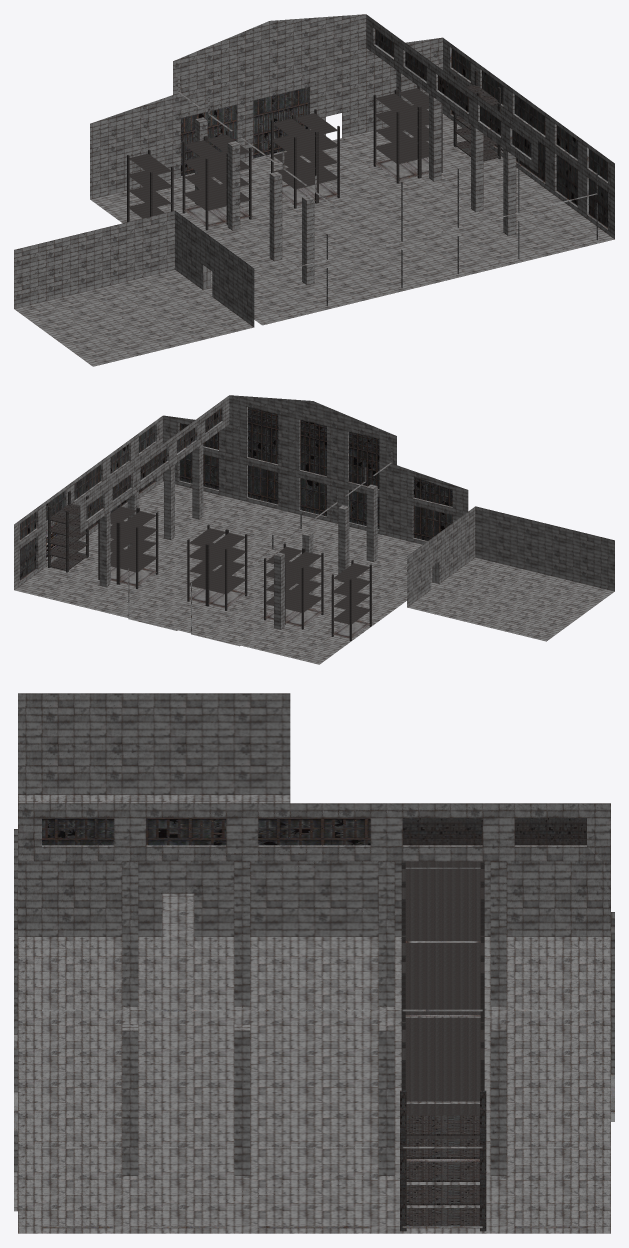
The model's file is PlzTest (14).glb.
The picture shows the model from 3 angles, top to bottom: view 1: azimuth 30°, elevation 25°; view 2: azimuth 150°, elevation 25°; view 3: azimuth 270°, elevation 25°; orthographic projection. The views are drawn at different scales.
Parts seen in each view (by area): view 1: Box-col.019, Cube.006-col.011, Cube.006-col.013, Cube.006-col.016, Cube.006-col.014, Cube.006-col.015, Cube.006-col.010, Cube.006-col.012, Box-col.026, Box-col.024, Box-col.023, Box-col.027 (+2 smaller); view 2: Box-col.019, Cube.006-col.011, Cube.006-col.016, Cube.006-col.014, Cube.006-col.013, Cube.006-col.015, Cube.006-col.010, Cube.006-col.012, Box-col.027, Box-col.023, Box-col.021, Box-col.025 (+3 smaller); view 3: Box-col.019, Cube.006-col.015, Cube.006-col.010, Cube.006-col.012, Cube.006-col.013, Cube.006-col.016, Cube.006-col.011, Box-col.020, Box-col.021, Box-col.022, Box-col.023, Box-col.024 (+11 smaller).
Part boxes in pixels (x1,y1,x2,y2): Box-col.019: (14,14,614,366); Cube.006-col.011: (373,89,420,183); Cube.006-col.013: (182,136,227,230); Cube.006-col.016: (271,114,317,208); Cube.006-col.014: (127,149,173,222); Cube.006-col.015: (293,109,339,202); Cube.006-col.010: (396,85,442,177); Cube.006-col.012: (205,130,251,219); Box-col.026: (227,141,240,230); Box-col.024: (269,171,282,261); Box-col.023: (503,148,516,235); Box-col.027: (302,195,314,284); Box-col.019: (14,395,614,664); Cube.006-col.011: (118,508,158,589); Cube.006-col.016: (207,529,247,610); Cube.006-col.014: (331,560,371,641); Cube.006-col.013: (285,548,323,629); Cube.006-col.015: (187,524,227,606); Cube.006-col.010: (98,504,138,584); Cube.006-col.012: (264,543,303,620); Box-col.027: (366,484,377,561); Box-col.023: (192,444,203,519); Box-col.021: (99,511,110,587); Box-col.025: (274,552,284,629); Box-col.019: (14,693,614,1233); Cube.006-col.015: (401,954,484,1048); Cube.006-col.010: (401,1041,484,1161); Cube.006-col.012: (401,880,484,1016); Cube.006-col.013: (401,861,484,961); Cube.006-col.016: (401,935,484,1014); Cube.006-col.011: (401,1022,484,1101); Box-col.020: (234,1024,250,1175); Box-col.021: (490,1024,506,1175); Box-col.022: (378,1024,394,1175); Box-col.023: (122,1024,138,1175); Box-col.024: (234,861,250,1006).
Bounding box in the file's own units: 81.56 × 20.06 × 47.03.
5 materials, 5 textured.
